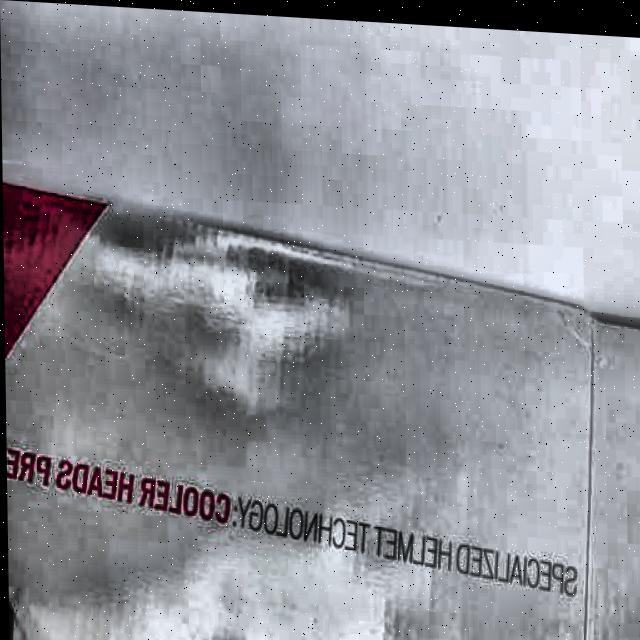cardboard: (3, 175, 640, 640)
